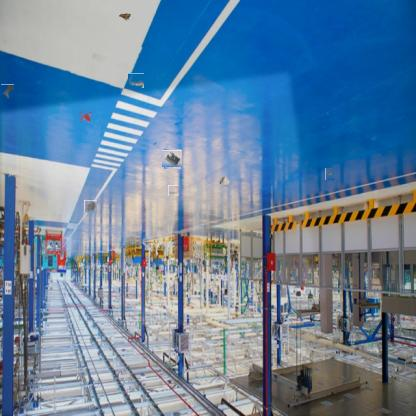dirty: (163, 150, 182, 168), (128, 73, 144, 88), (218, 175, 234, 187), (84, 200, 97, 213), (119, 11, 133, 23), (168, 185, 179, 196), (325, 168, 334, 180)
liquid: (0, 84, 14, 99), (80, 111, 90, 122)
